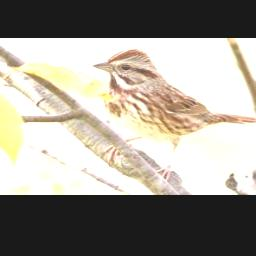Sparrow: (89, 46, 256, 183)
